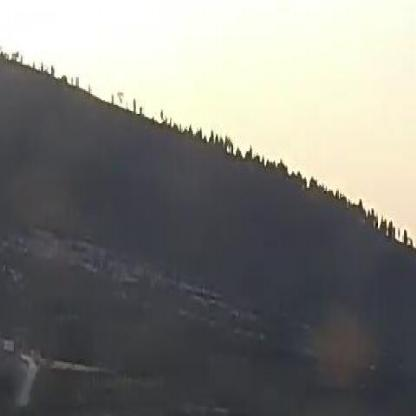other: (216, 92, 400, 244)
